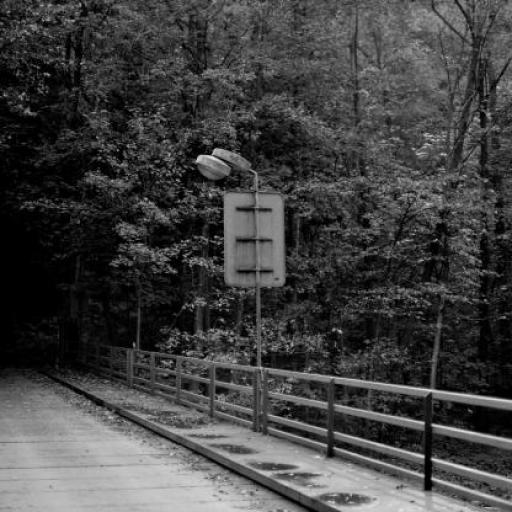street light: (196, 148, 270, 425)
